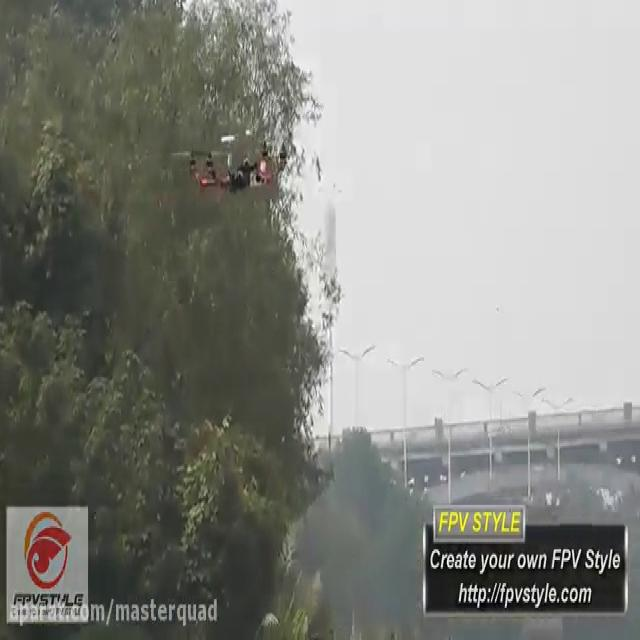drone: (184, 126, 289, 194)
